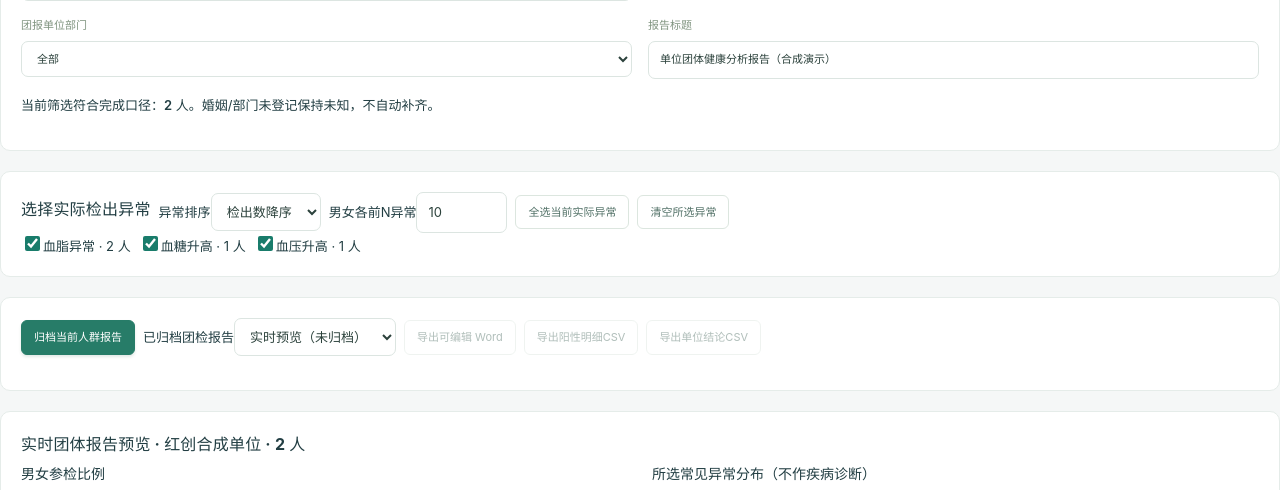
Scenario: genuine editable DOCX export › generates a Word download from the selected snapshot through the actual UI and leaves archive unchanged
(page scrolled)
Click the button "归档当前人群报告" at (78, 337), box [21,320,135,355]
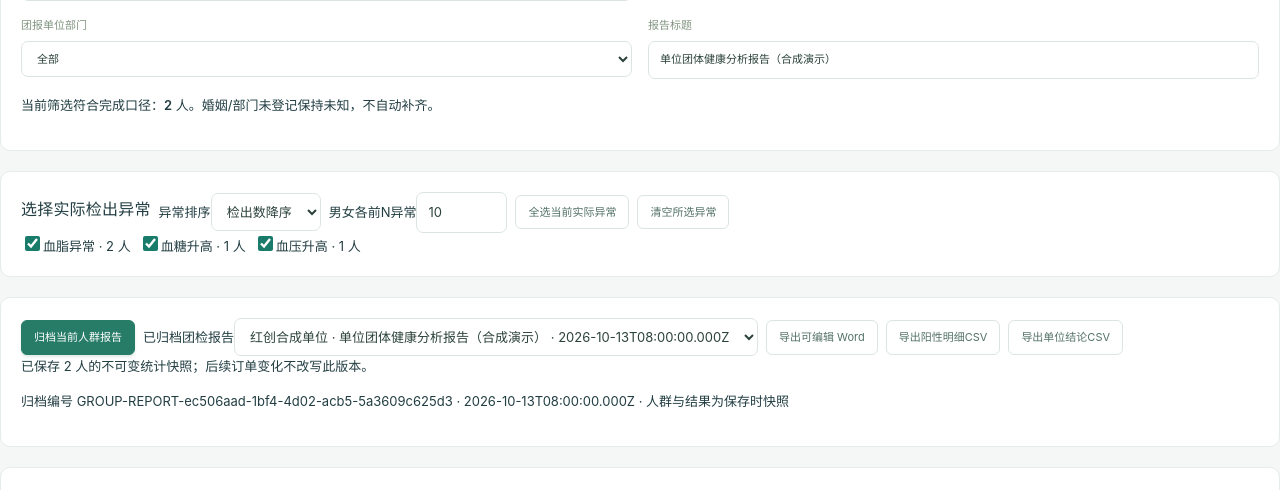
Click the button "导出可编辑 Word" at (822, 337), box [766,320,878,355]
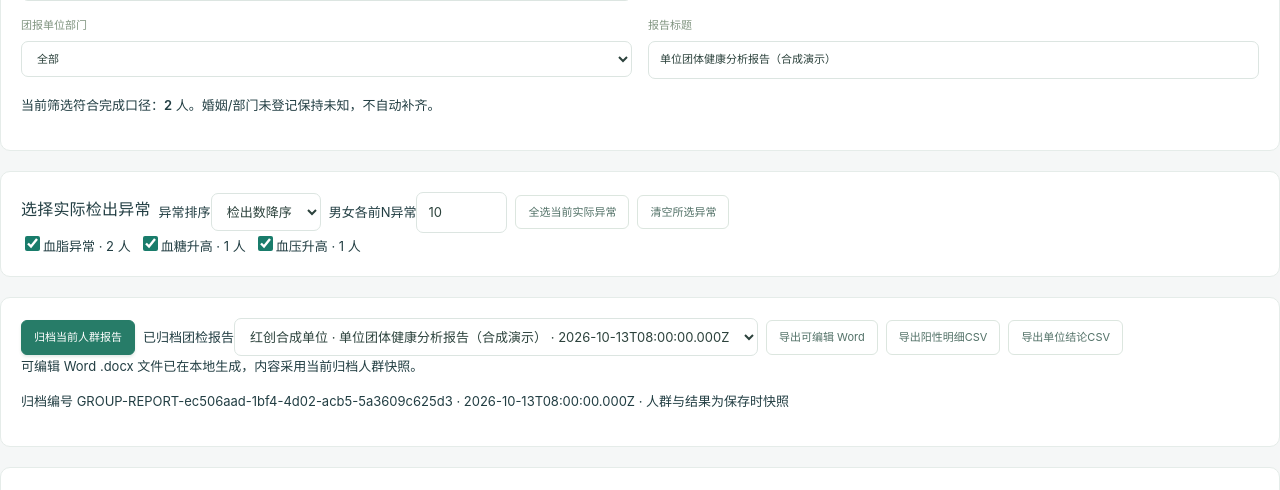
Expected: the message shows "Word .docx 文件已在本地生成", [21,358,423,374]
